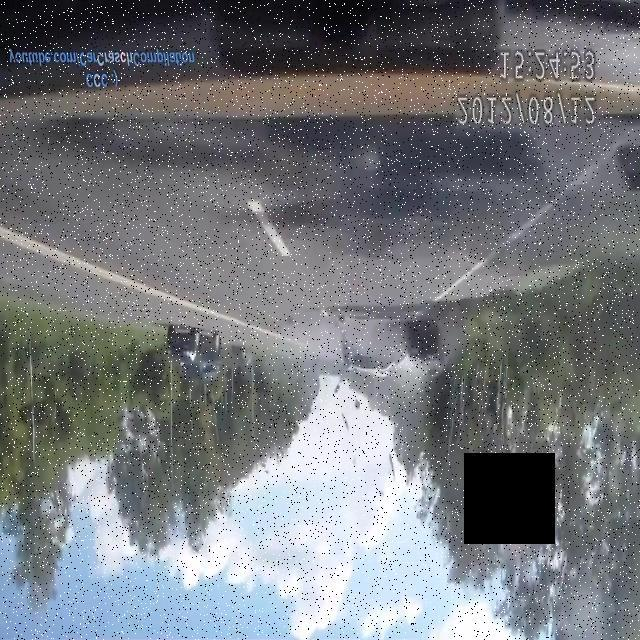severe: (340, 315, 450, 384)
